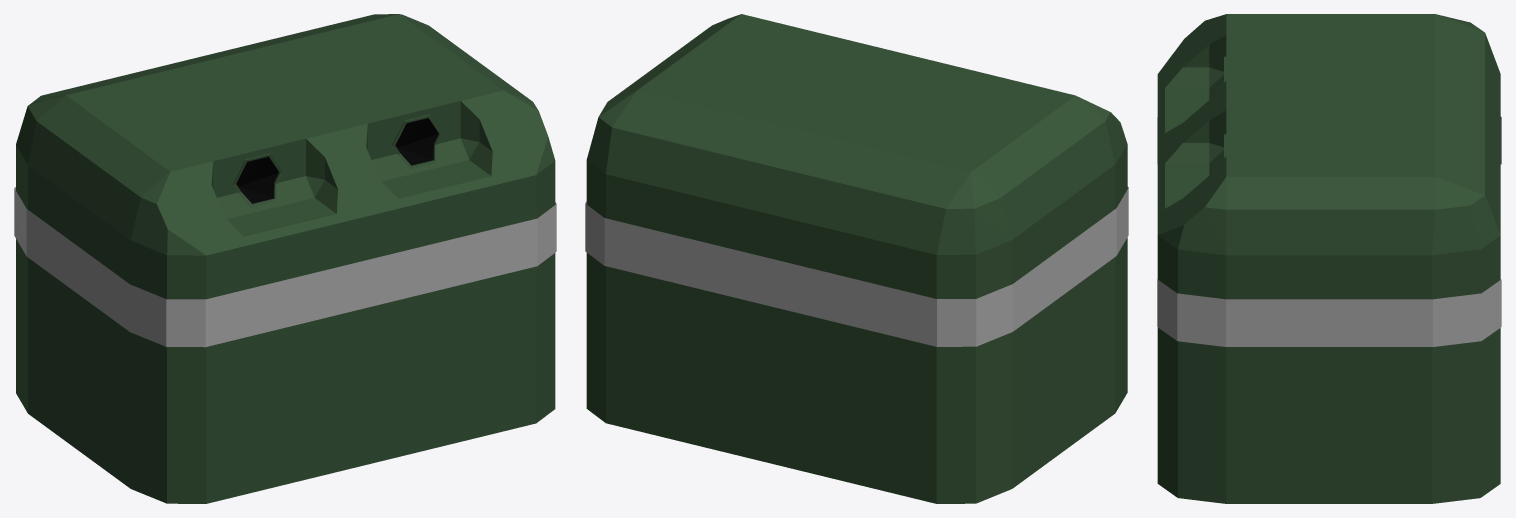
File: Trash_02_SkF.fbx
The picture shows the model from 3 angles, left to right: view 1: azimuth 30°, elevation 25°; view 2: azimuth 150°, elevation 25°; view 3: azimuth 270°, elevation 25°; orthographic projection.
Visible parts, largest first — view 1: Trash_02; view 2: Trash_02; view 3: Trash_02.
Boxes of the visible parts, bbox=[...] form: Trash_02: bbox=[14, 14, 556, 503]; Trash_02: bbox=[585, 14, 1128, 503]; Trash_02: bbox=[1157, 14, 1501, 503].
Bounding box in the file's own units: 228 × 162 × 164.
1 material, 1 textured.
